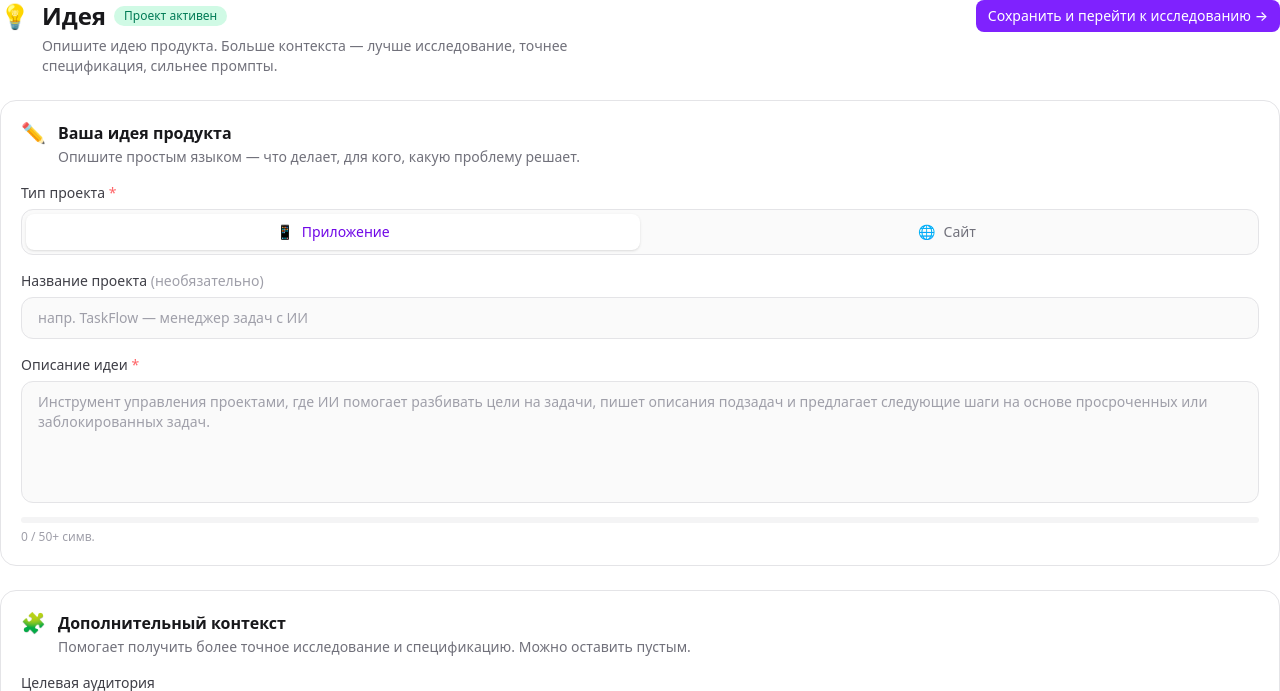
Test case: C. Idea blocking — submit triggers validation errors › shows the blocked state explanation banner after failed submit
Click the button "Сохранить и перейти к исследованию →" at (1128, 16), box 976,0 -> 1279,32
(page scrolled)
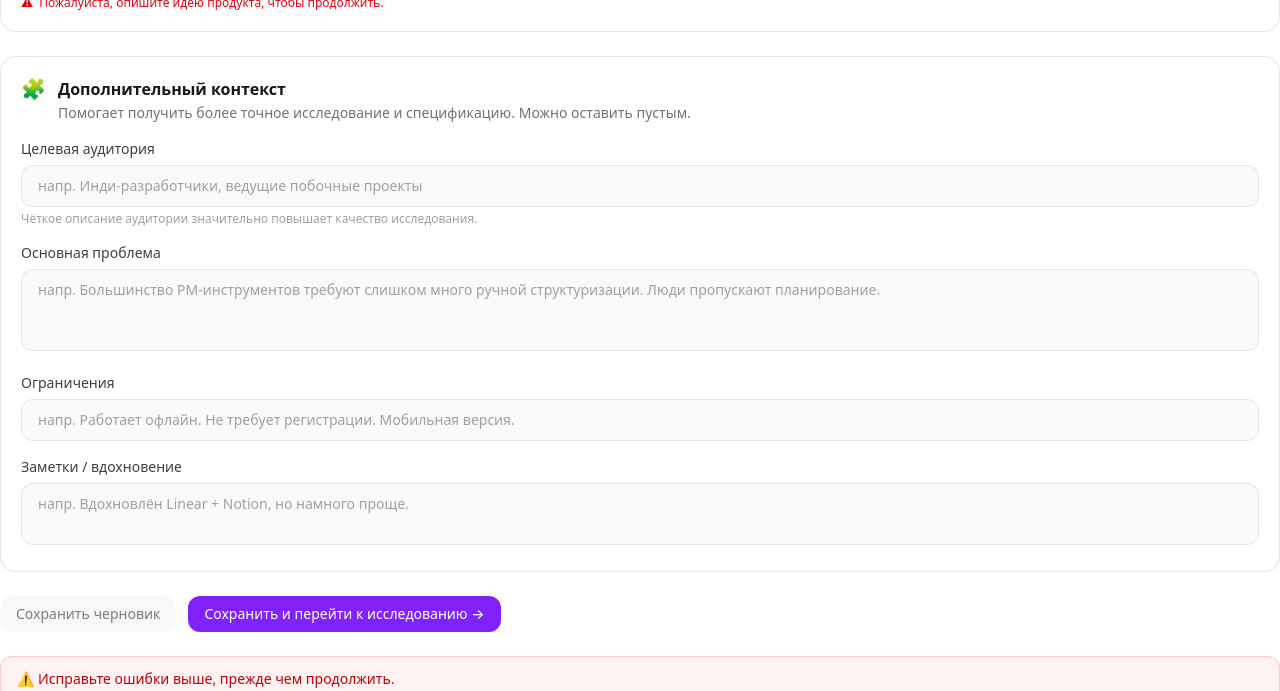
Expected: the text "⚠️ Исправьте ошибки выше, прежде чем продолжить." is shown, 17,669 -> 394,688
